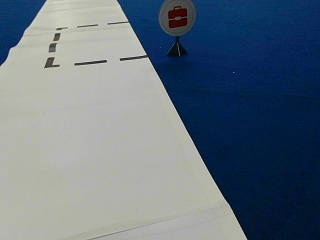company: (158, 1, 196, 34)
